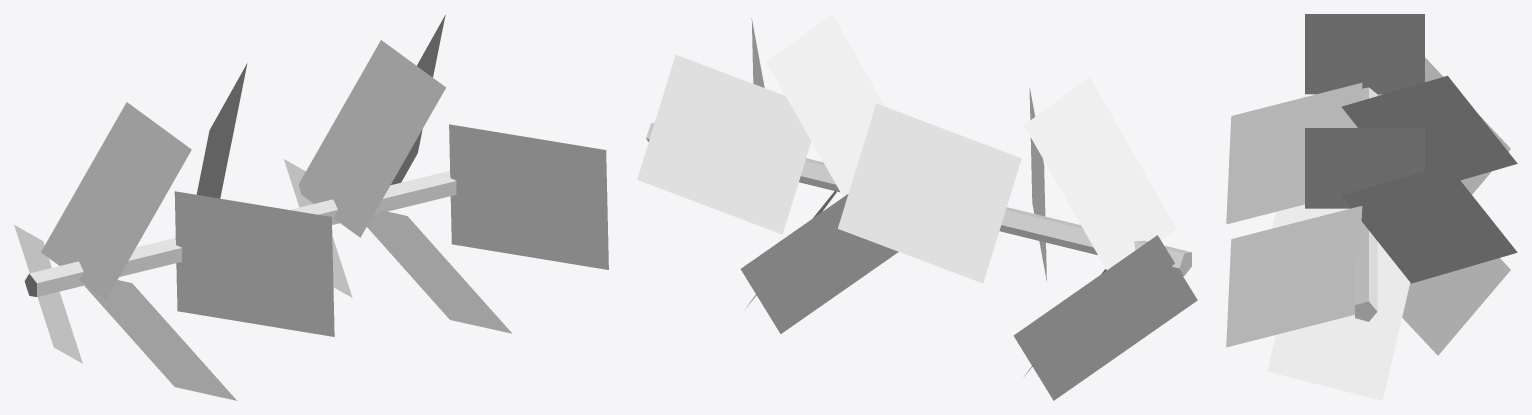
The model's file is VineSplineMesh_Textured.fbx.
3 renders of one model, left to right at view 1: azimuth 30°, elevation 25°; view 2: azimuth 150°, elevation 25°; view 3: azimuth 270°, elevation 25°, orthographic. The views are drawn at different scales.
Parts seen in each view (by area): view 1: Plane.009; view 2: Plane.009; view 3: Plane.009.
Boxes of the visible parts, box(x1,y1,x2,y2) form: Plane.009: box(14, 15, 608, 400); Plane.009: box(637, 14, 1197, 400); Plane.009: box(1226, 14, 1517, 400).
Size of the model in its own units: 70 by 34.85 by 36.5.
